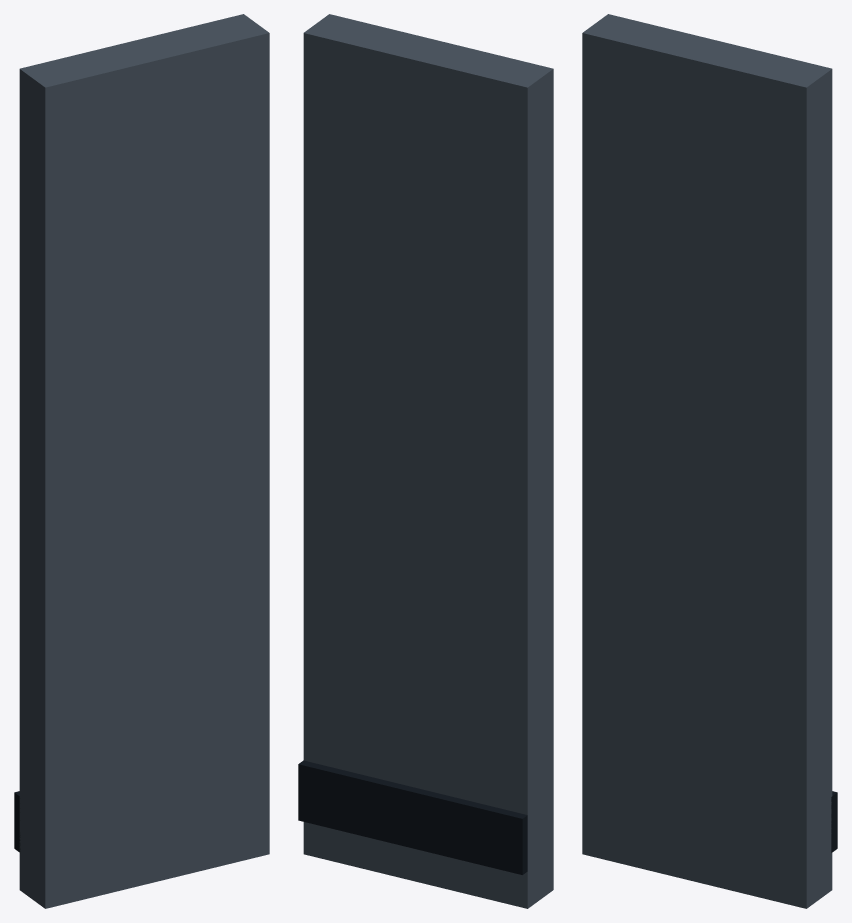
The model's file is np_kms_06_demi_mur.glb.
3 renders of one model, left to right at view 1: azimuth 30°, elevation 25°; view 2: azimuth 150°, elevation 25°; view 3: azimuth 330°, elevation 25°, orthographic.
Visible parts, largest first — view 1: Panneau; view 2: Panneau, RailBas; view 3: Panneau.
Boxes of the visible parts, x1,y1,x2,y2 form: Panneau: [19, 14, 269, 908]; Panneau: [303, 14, 553, 908]; RailBas: [298, 760, 527, 874]; Panneau: [582, 14, 832, 908].
Size of the model in its own units: 1 by 3.5 by 0.24.
